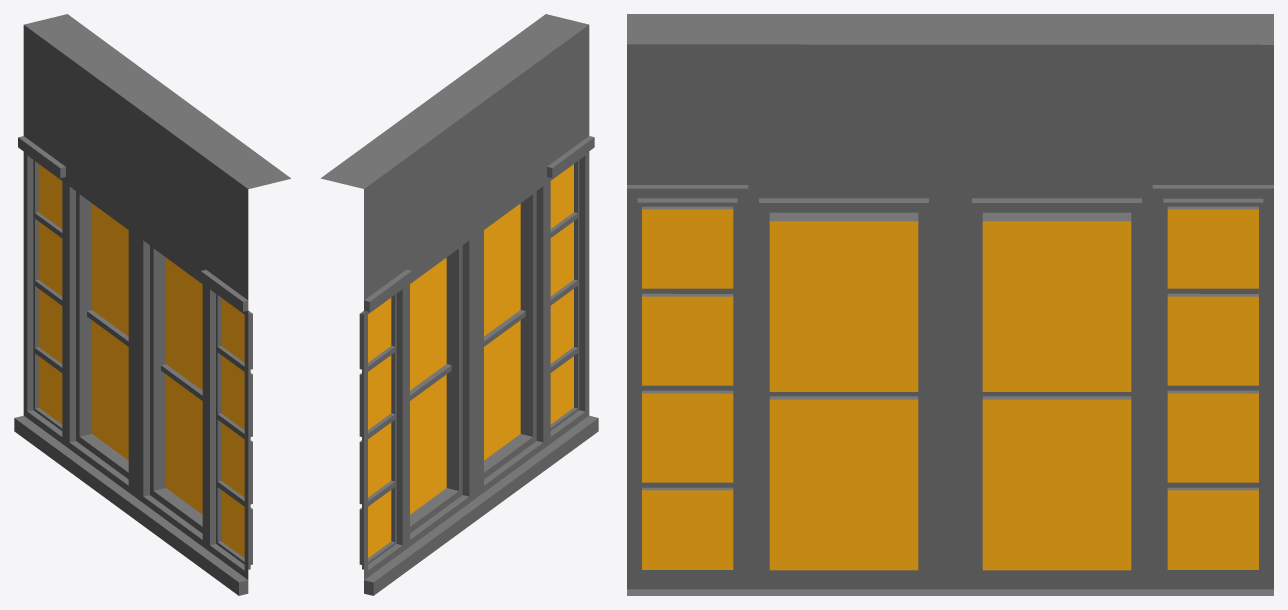
The model's file is O_Facade_Grande_fenetre_quatre.fbx.
The picture shows the model from 3 angles, left to right: view 1: azimuth 30°, elevation 25°; view 2: azimuth 150°, elevation 25°; view 3: azimuth 270°, elevation 25°; orthographic projection. The views are drawn at different scales.
Visible parts, largest first — view 1: O_Facade_Grande_fenetre_4/4/4/4; view 2: O_Facade_Grande_fenetre_4/4/4/4; view 3: O_Facade_Grande_fenetre_4/4/4/4.
Boxes of the visible parts, <box> form: O_Facade_Grande_fenetre_4/4/4/4: <box>14,14,290,595</box>; O_Facade_Grande_fenetre_4/4/4/4: <box>320,14,598,595</box>; O_Facade_Grande_fenetre_4/4/4/4: <box>627,14,1273,595</box>.
Bounding box in the file's own units: 0.4141 × 3.02 × 3.
